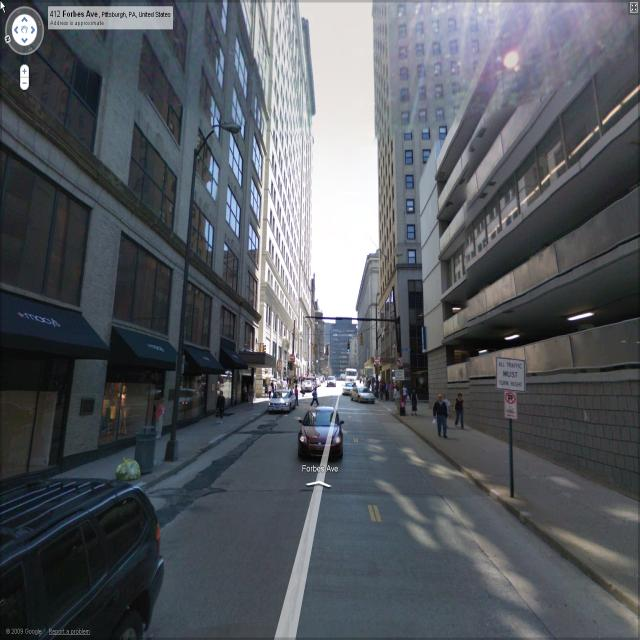b_1: (0, 6, 268, 380), (414, 1, 640, 432), (374, 9, 433, 399), (271, 7, 313, 385), (433, 5, 492, 104), (350, 244, 384, 390), (330, 306, 356, 379)
